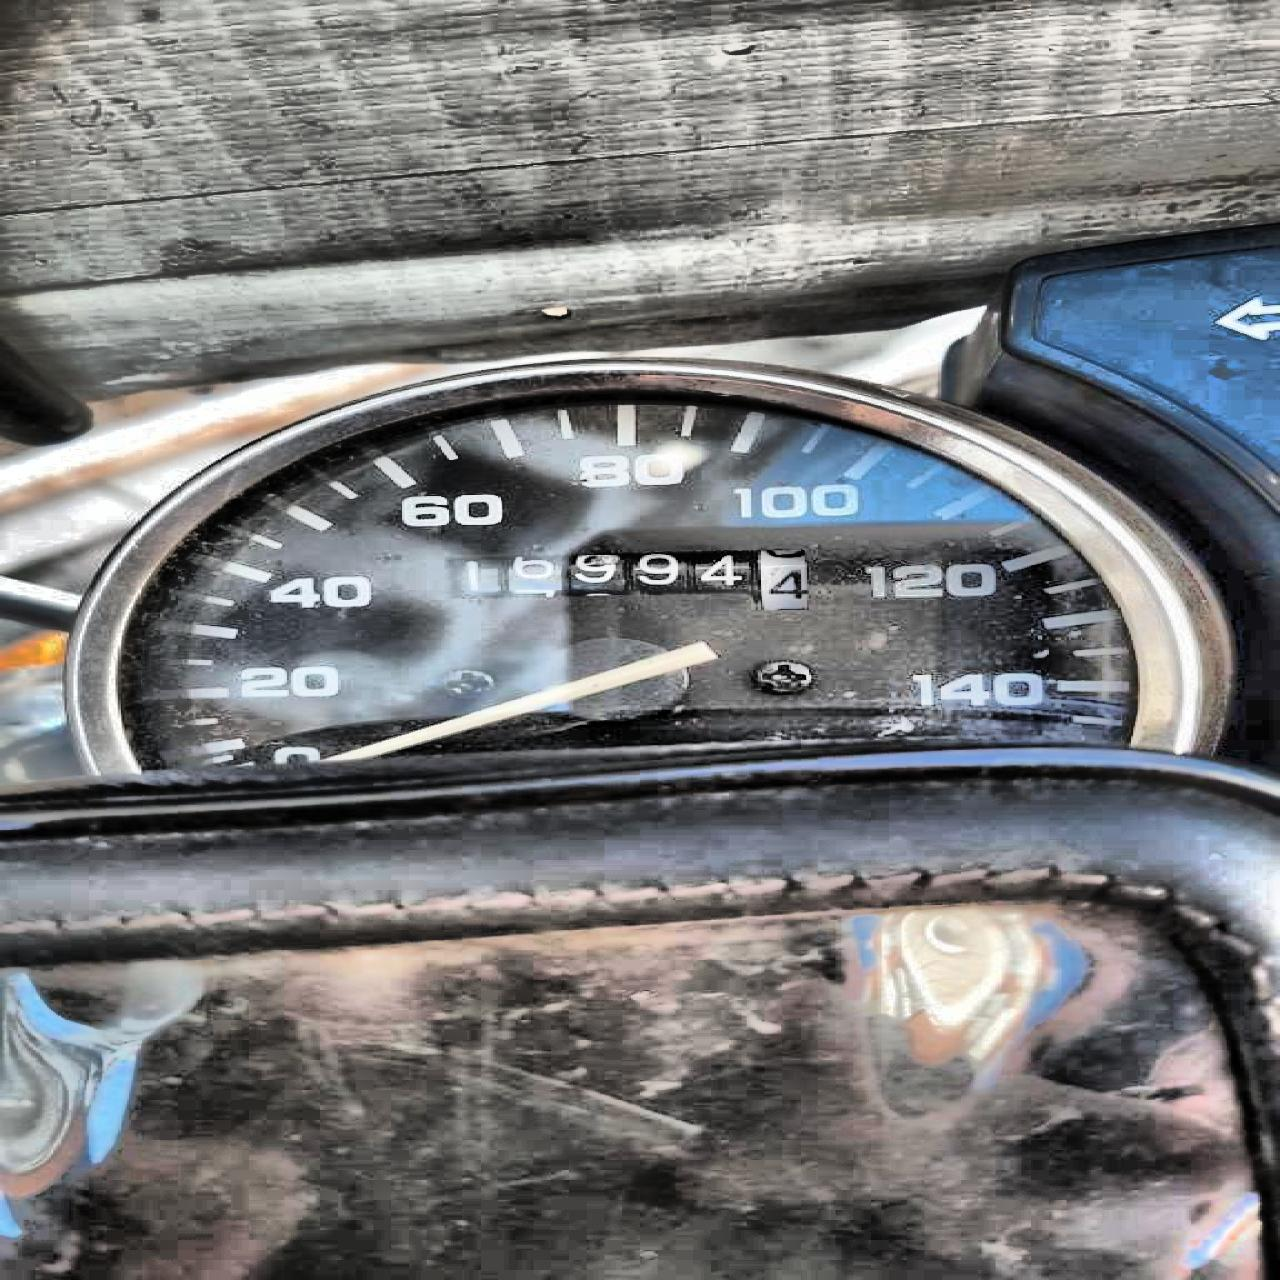1: (464, 559, 478, 591)
4: (697, 554, 740, 585), (767, 567, 804, 598)
6: (509, 547, 553, 579)
9: (635, 551, 678, 584), (571, 551, 613, 583)
odometer: (436, 544, 813, 614)
